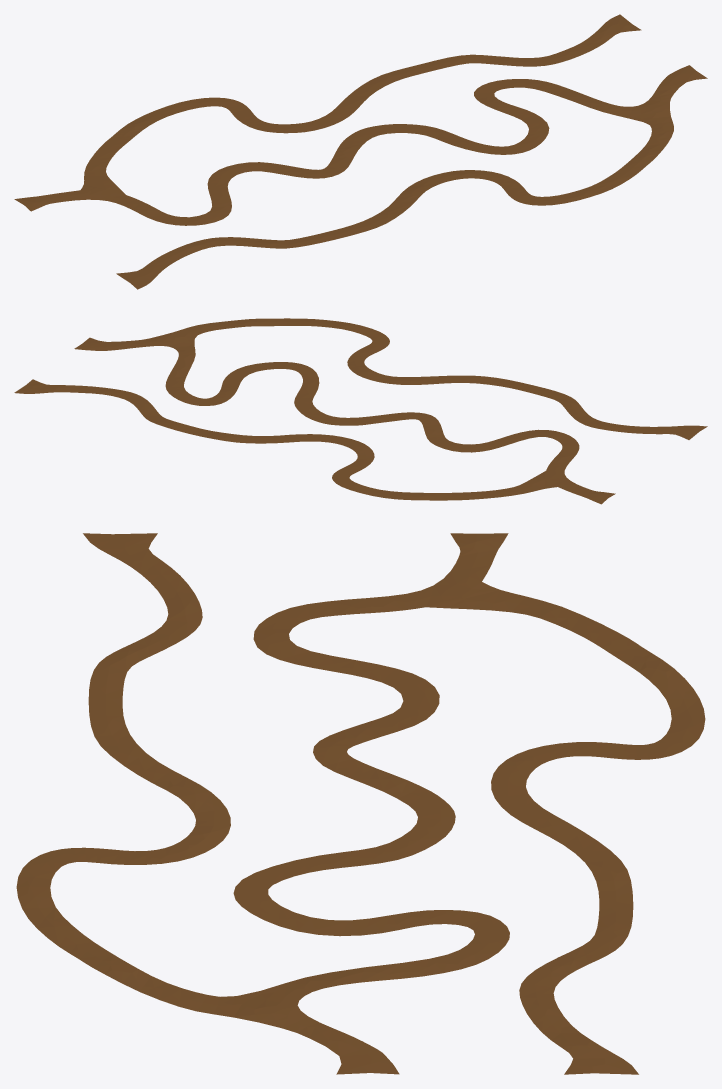
The model's file is Paths.fbx.
The picture shows the model from 3 angles, top to bottom: view 1: azimuth 30°, elevation 25°; view 2: azimuth 150°, elevation 25°; view 3: azimuth 270°, elevation 25°; orthographic projection. The views are drawn at different scales.
Visible parts, largest first — view 1: Path; view 2: Path; view 3: Path.
Part boxes in pixels (x1,y1,x2,y2): Path: (14,14,707,289); Path: (14,318,707,504); Path: (16,533,705,1074).
Size of the model in its own units: 8444 by 19.44 by 4539.
